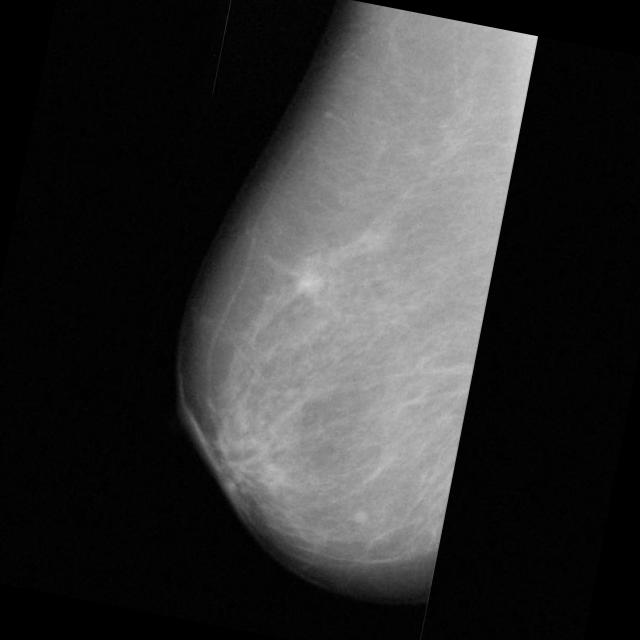ARCH: (244, 220, 373, 348)
